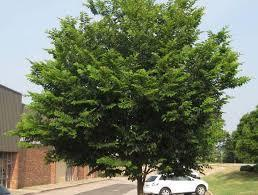tree: (11, 1, 253, 195)
